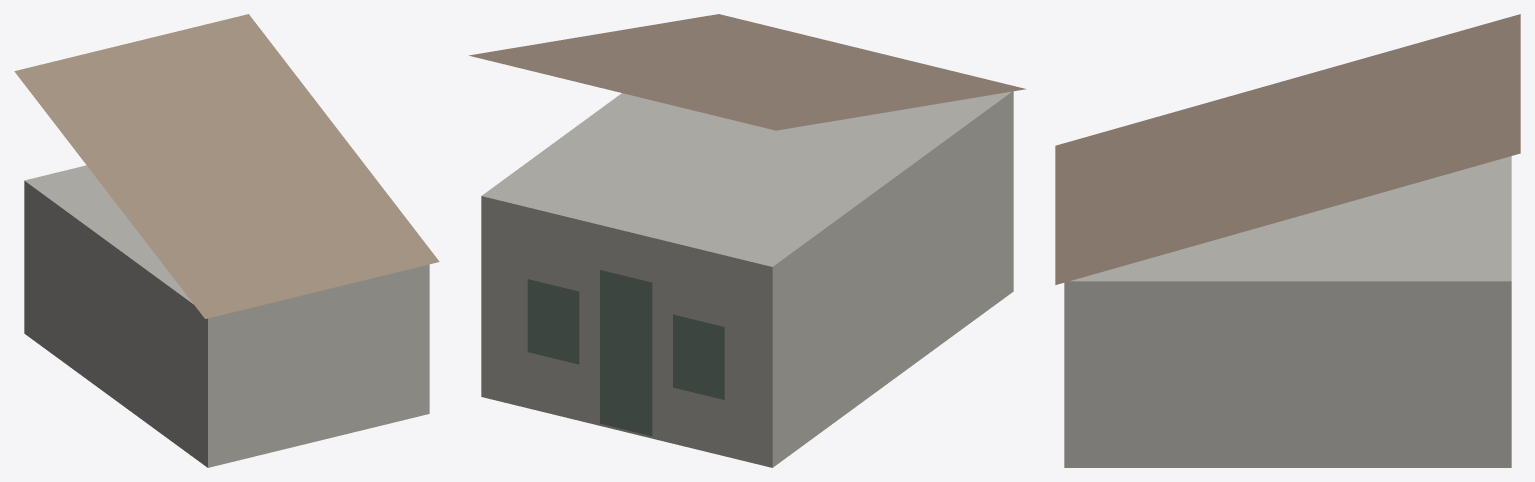
The model's file is recon_1835_south_d2_024__recommended_1835.glb.
3 renders of one model, left to right at view 1: azimuth 30°, elevation 25°; view 2: azimuth 150°, elevation 25°; view 3: azimuth 270°, elevation 25°, orthographic. The views are drawn at different scales.
Parts seen in each view (by area): view 1: recon_1835_south_d2_024__recommended_1835; view 2: recon_1835_south_d2_024__recommended_1835; view 3: recon_1835_south_d2_024__recommended_1835.
Part boxes in pixels (left/top/right/bottom): recon_1835_south_d2_024__recommended_1835: left=14, top=14, right=439, bottom=467; recon_1835_south_d2_024__recommended_1835: left=469, top=14, right=1026, bottom=467; recon_1835_south_d2_024__recommended_1835: left=1055, top=14, right=1520, bottom=467.
Bounding box in the file's own units: 4.41 × 4.69 × 6.22.
